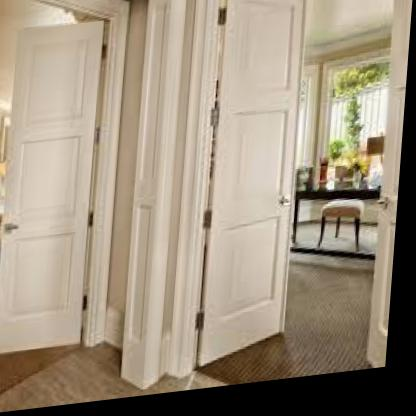door: (0, 21, 103, 355)
